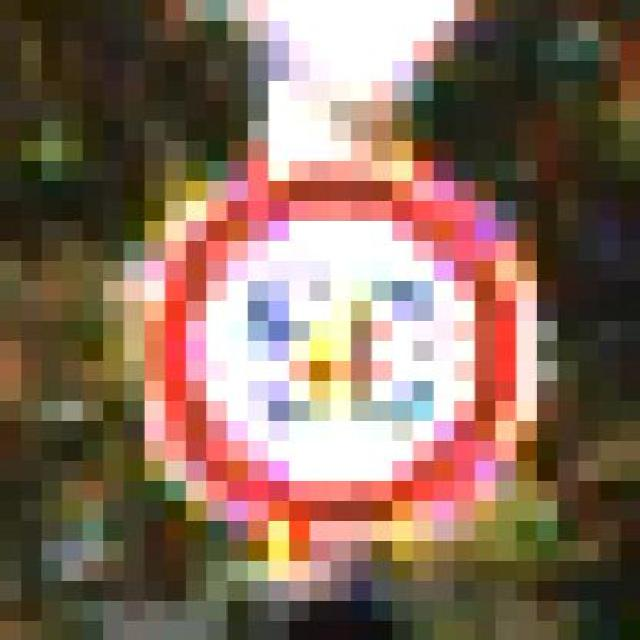50 mph speed limit: (102, 169, 536, 549)
